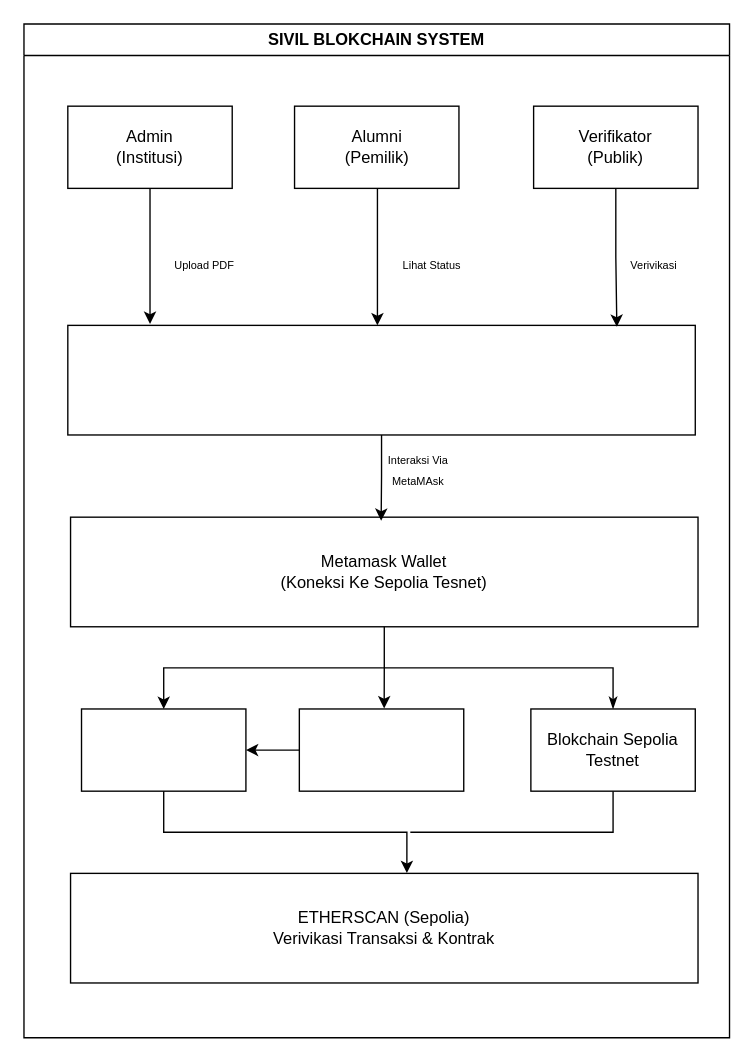
Some shapes in this 754 by 1062 pixel diagram are drawn without their labels. The centre of each missing label's shape, as x and y in pixels:
"Front - End (Web app) HTMLL +CSS + JavaScript + Ethers.js" belongs at point (380, 379).
"IPFS (Pinata) penyimpanan File PDF Ijazah" belongs at point (381, 749).
"Smarat Contract SIVILBlokchain (Solidity)" belongs at point (163, 749).
